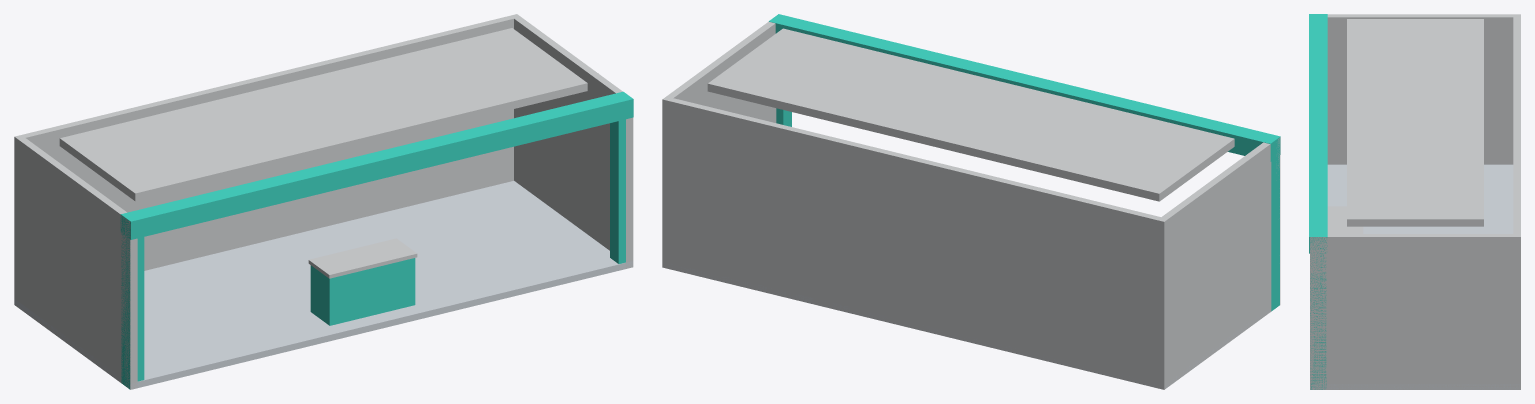
3 renders of one model, left to right at view 1: azimuth 30°, elevation 25°; view 2: azimuth 150°, elevation 25°; view 3: azimuth 270°, elevation 25°, orthographic. The views are drawn at different scales.
Visible parts, largest first — view 1: Exhibition Booth Concept; view 2: Exhibition Booth Concept; view 3: Exhibition Booth Concept.
Boxes of the visible parts, <box> form: Exhibition Booth Concept: <box>14,14,633,389</box>; Exhibition Booth Concept: <box>662,14,1280,389</box>; Exhibition Booth Concept: <box>1309,14,1520,389</box>.
Size of the model in its own units: 10 by 3.34 by 4.02.
